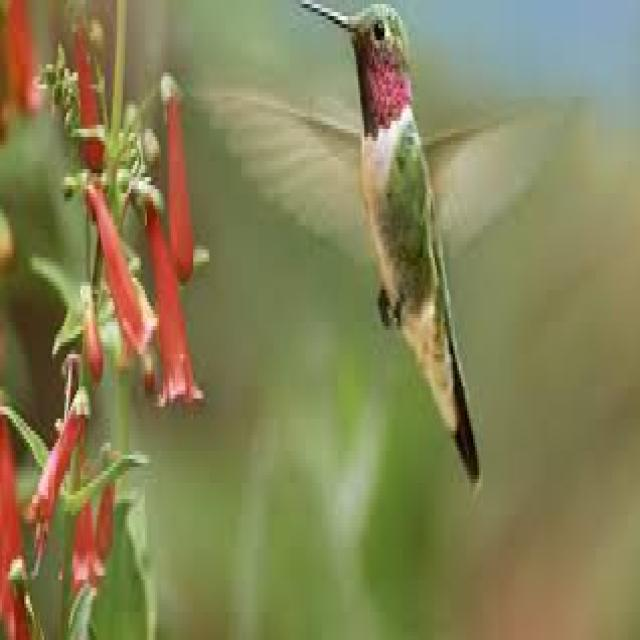Humming Bird: (197, 3, 553, 490)
